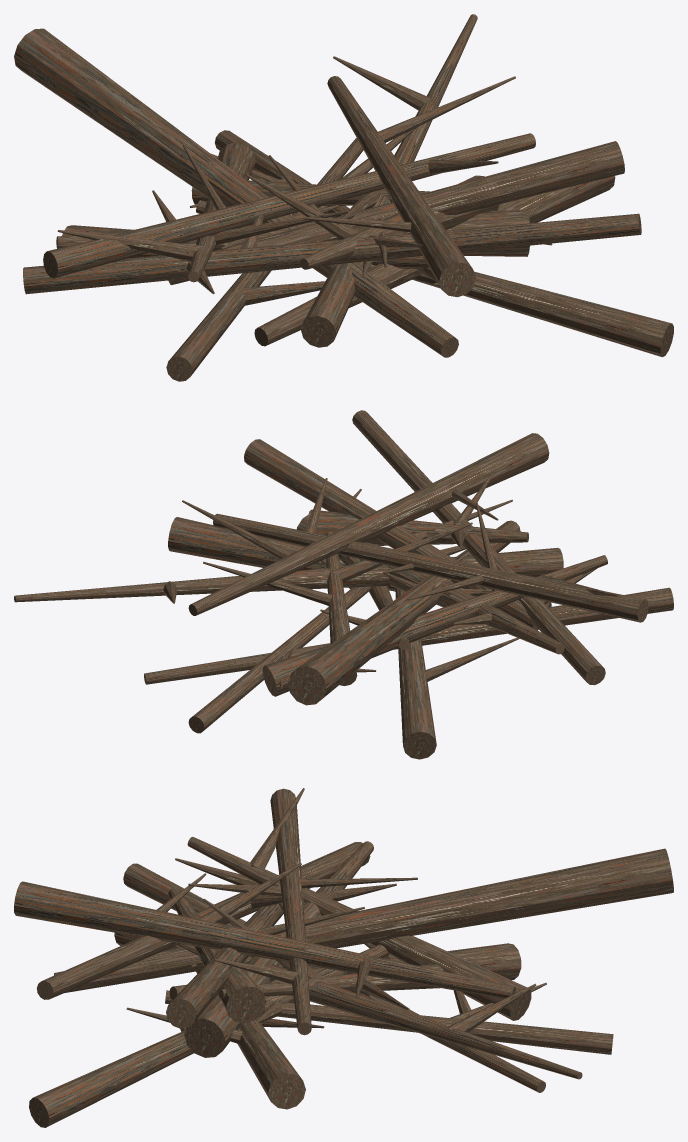
Rendered from detail_branch_pile.glb.
The picture shows the model from 3 angles, top to bottom: view 1: azimuth 30°, elevation 25°; view 2: azimuth 150°, elevation 25°; view 3: azimuth 270°, elevation 25°; orthographic projection. The views are drawn at different scales.
Visible parts, largest first — view 1: FallenBranch10, FallenBranch14, FallenBranch7, FallenBranch1, FallenBranch13, FallenBranch3, FallenBranch12, FallenBranch2, FallenBranch0, FallenBranch6, FallenBranch5, FallenBranch4 (+11 smaller); view 2: FallenBranch3, FallenBranch7, FallenBranch10, FallenBranch12, FallenBranch14, FallenBranch1, FallenBranch0, FallenBranch4, FallenBranch2, FallenBranch9, FallenBranch11, FallenBranch6 (+7 smaller); view 3: FallenBranch10, FallenBranch3, FallenBranch13, FallenBranch4, FallenBranch12, FallenBranch14, FallenBranch11, FallenBranch7, FallenBranch6, FallenBranch1, FallenBranch0, FallenBranch2 (+12 smaller).
Boxes of the visible parts, box(x1,y1,x2,y2) form: FallenBranch10: box(14, 28, 458, 357); FallenBranch14: box(23, 213, 641, 294); FallenBranch7: box(43, 133, 535, 278); FallenBranch1: box(168, 141, 624, 284); FallenBranch13: box(196, 200, 673, 357); FallenBranch3: box(327, 76, 475, 297); FallenBranch12: box(301, 14, 477, 347); FallenBranch2: box(254, 176, 615, 346); FallenBranch0: box(166, 138, 363, 381); FallenBranch6: box(56, 209, 529, 256); FallenBranch5: box(300, 175, 499, 269); FallenBranch4: box(188, 142, 255, 282); FallenBranch3: box(188, 433, 549, 615); FallenBranch7: box(213, 513, 648, 622); FallenBranch10: box(288, 520, 520, 705); FallenBranch12: box(14, 547, 563, 602); FallenBranch14: box(352, 410, 605, 685); FallenBranch1: box(244, 439, 538, 630); FallenBranch0: box(144, 587, 673, 684); FallenBranch4: box(262, 555, 607, 696); FallenBranch2: box(168, 517, 551, 607); FallenBranch9: box(395, 588, 436, 759); FallenBranch11: box(188, 586, 371, 733); FallenBranch6: box(296, 515, 564, 654); FallenBranch10: box(54, 848, 673, 992); FallenBranch3: box(14, 881, 515, 998); FallenBranch13: box(29, 944, 389, 1127); FallenBranch4: box(187, 837, 531, 1020); FallenBranch12: box(114, 932, 582, 1079); FallenBranch14: box(36, 842, 370, 999); FallenBranch11: box(165, 990, 613, 1054); FallenBranch7: box(270, 788, 311, 1035); FallenBranch6: box(184, 841, 373, 1057); FallenBranch1: box(166, 904, 283, 1028); FallenBranch0: box(123, 863, 545, 1092); FallenBranch2: box(196, 971, 305, 1109).
Size of the model in its own units: 2.33 by 0.6199 by 2.44.
1 material, 1 textured.
